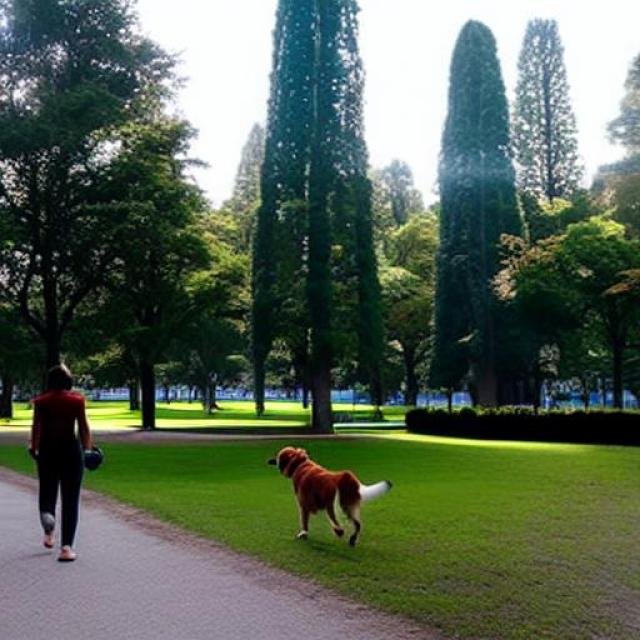Unleashed_Dog: (39, 448, 393, 550)
